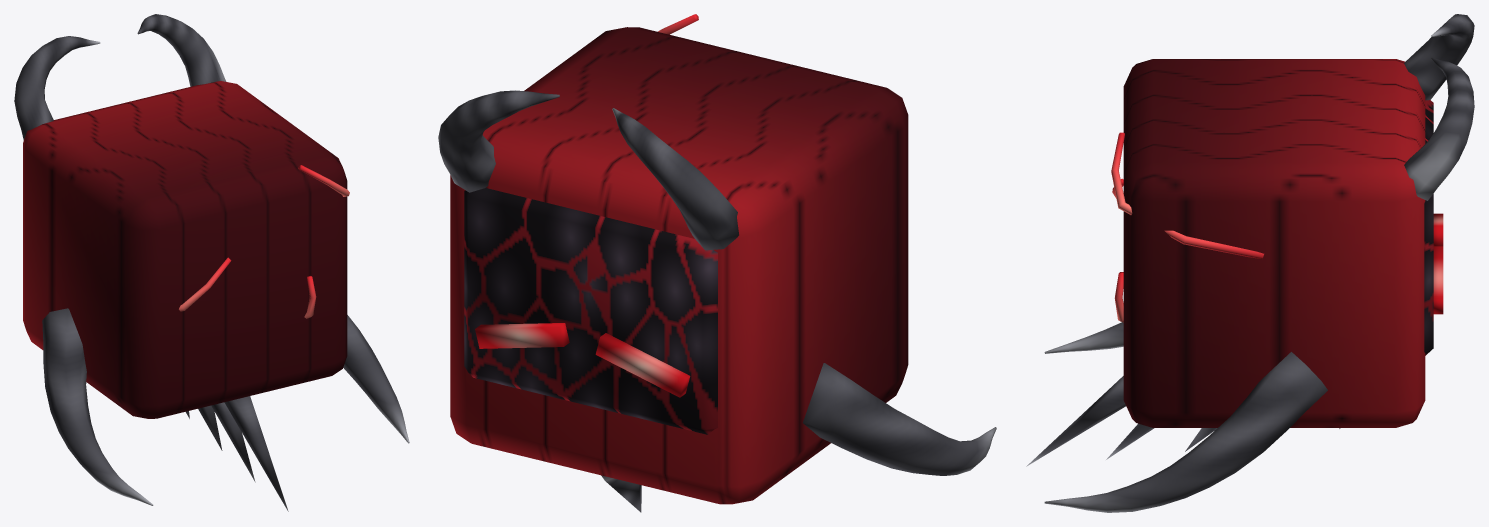
Rendered from parasite_final_crest.obj.
3 views of the same model, side by side, from view 1: azimuth 30°, elevation 25°; view 2: azimuth 150°, elevation 25°; view 3: azimuth 270°, elevation 25° (orthographic). The views are drawn at different scales.
Visible parts, largest first — view 1: final_crest; view 2: final_crest; view 3: final_crest.
Boxes of the visible parts, x1,y1,x2,y2 form: final_crest: (14,14,409,511); final_crest: (438,14,996,512); final_crest: (1026,14,1474,512).
Bounding box in the file's own units: 0.8214 × 0.8941 × 0.856.
